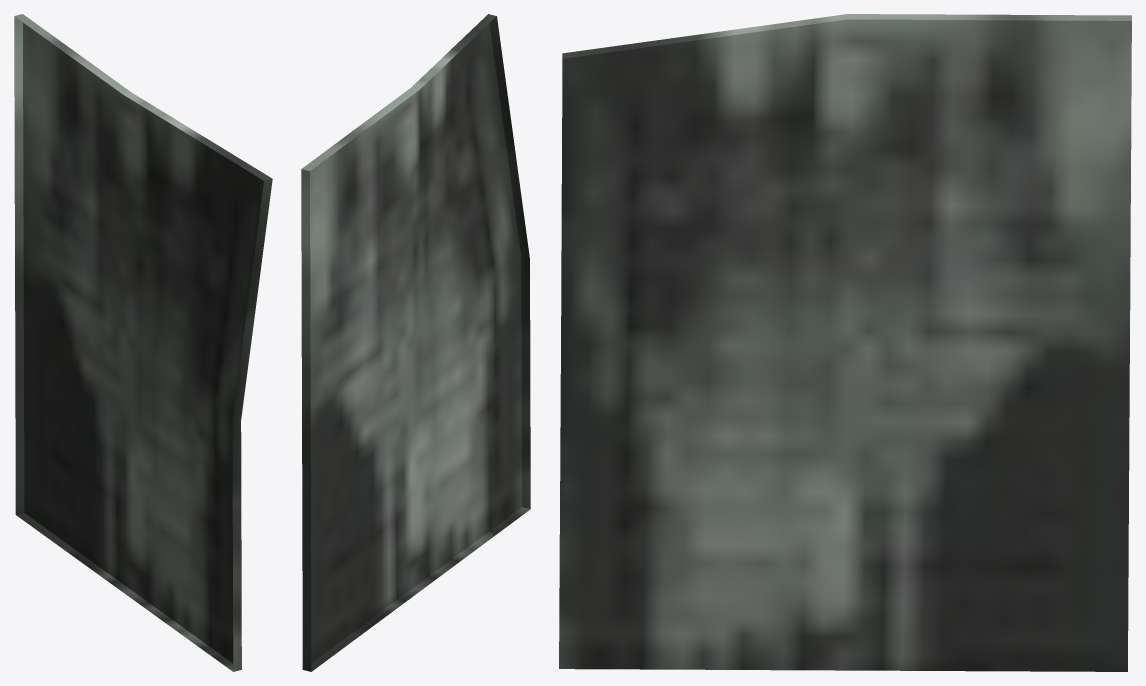
File: Paper09.FBX
3 renders of one model, left to right at view 1: azimuth 30°, elevation 25°; view 2: azimuth 150°, elevation 25°; view 3: azimuth 270°, elevation 25°, orthographic. The views are drawn at different scales.
Visible parts, largest first — view 1: Paper09; view 2: Paper09; view 3: Paper09.
Boxes of the visible parts, box(x1,y1,x2,y2) form: Paper09: box(14, 14, 272, 671); Paper09: box(301, 14, 530, 671); Paper09: box(559, 14, 1131, 671).
Bounding box in the file's own units: 2.15 × 25.19 × 20.04.
